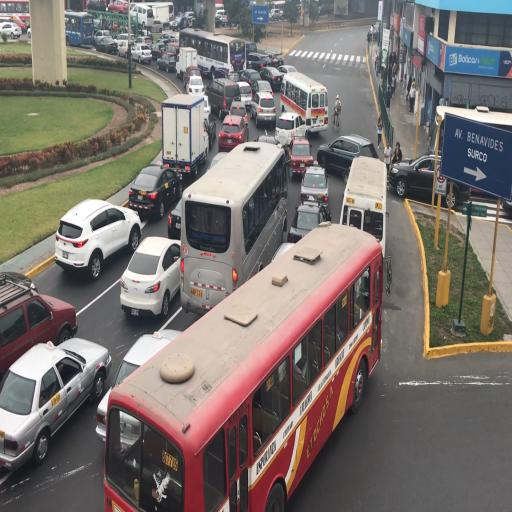auto: (1, 336, 110, 474), (95, 330, 184, 441), (1, 270, 75, 391), (54, 195, 140, 277), (182, 148, 240, 239), (120, 234, 183, 316), (390, 152, 470, 210), (128, 162, 182, 218), (318, 134, 377, 178), (53, 216, 89, 273), (287, 202, 328, 246), (470, 182, 510, 216), (300, 162, 328, 207), (274, 110, 306, 148), (218, 114, 249, 152), (287, 135, 314, 178), (251, 89, 276, 128), (230, 79, 253, 112), (258, 66, 285, 94), (238, 68, 264, 95), (246, 50, 274, 74), (205, 150, 234, 172), (228, 96, 250, 124), (183, 64, 203, 92), (156, 49, 179, 72), (114, 34, 136, 57), (130, 42, 152, 64), (150, 39, 171, 61), (171, 11, 195, 30), (94, 36, 118, 54), (0, 21, 22, 39), (266, 51, 284, 68), (256, 134, 278, 147), (278, 65, 298, 79), (157, 33, 177, 47), (107, 0, 128, 13), (94, 30, 112, 43), (134, 35, 152, 48), (202, 94, 211, 118), (150, 19, 164, 33), (269, 8, 282, 22), (220, 13, 230, 26), (215, 12, 223, 26)
bus: (108, 218, 368, 500), (179, 27, 237, 81), (64, 10, 94, 47)
camion: (340, 154, 386, 260), (160, 92, 210, 182)
moto: (332, 96, 340, 129)
